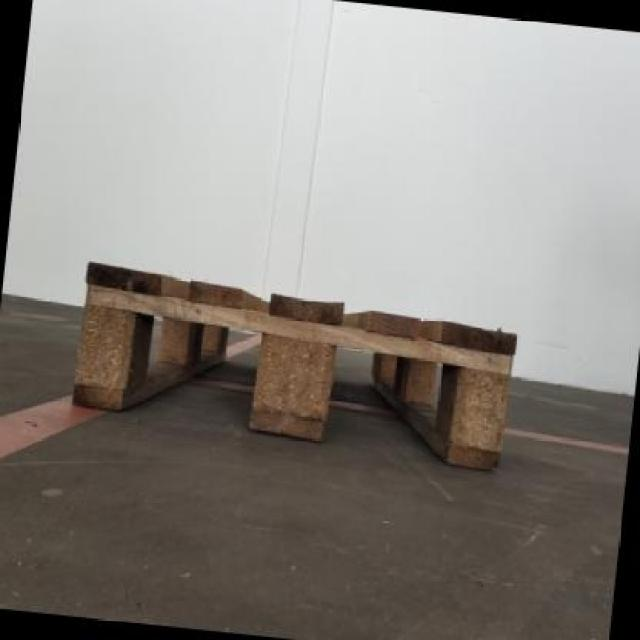block: (60, 262, 133, 416), (247, 324, 334, 445), (449, 355, 514, 468), (393, 351, 437, 404), (159, 313, 198, 370)
front: (59, 256, 525, 479)
